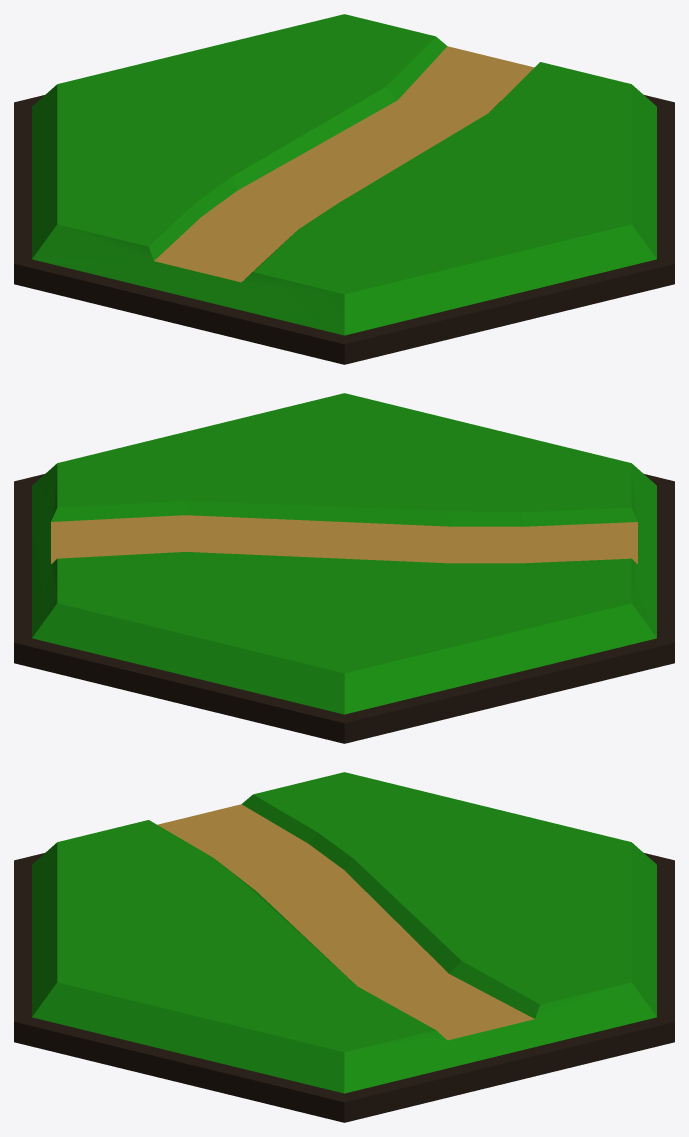
File: roadLineTile.fbx
3 renders of one model, top to bottom at view 1: azimuth 30°, elevation 25°; view 2: azimuth 150°, elevation 25°; view 3: azimuth 270°, elevation 25°, orthographic.
Parts seen in each view (by area): view 1: tail020; view 2: tail020; view 3: tail020.
Part boxes in pixels (x1,y1,x2,y2): tail020: (14,14,674,364); tail020: (14,393,674,743); tail020: (14,772,674,1122).
Bounding box in the file's own units: 47.1 × 3.36 × 40.79.
